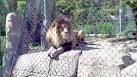lion: (43, 17, 88, 59)
